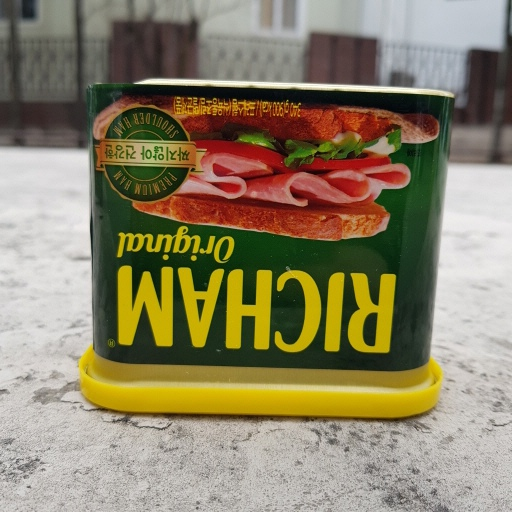Metal_2: (80, 81, 455, 419)
